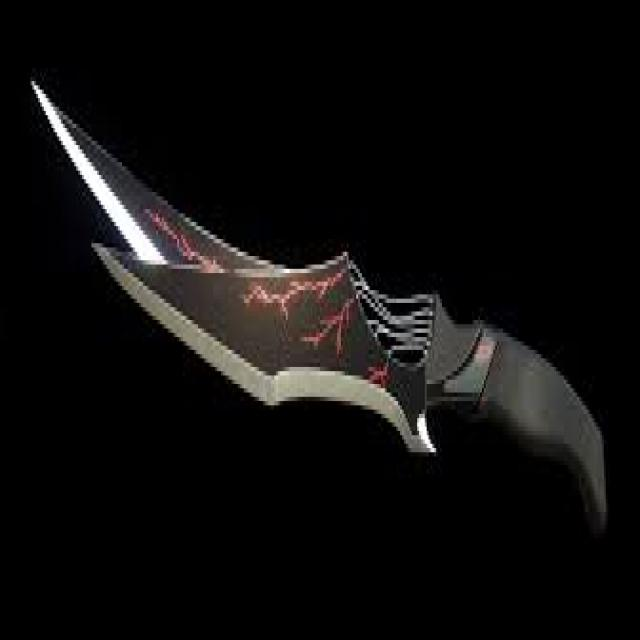Gun: (28, 68, 612, 552)
